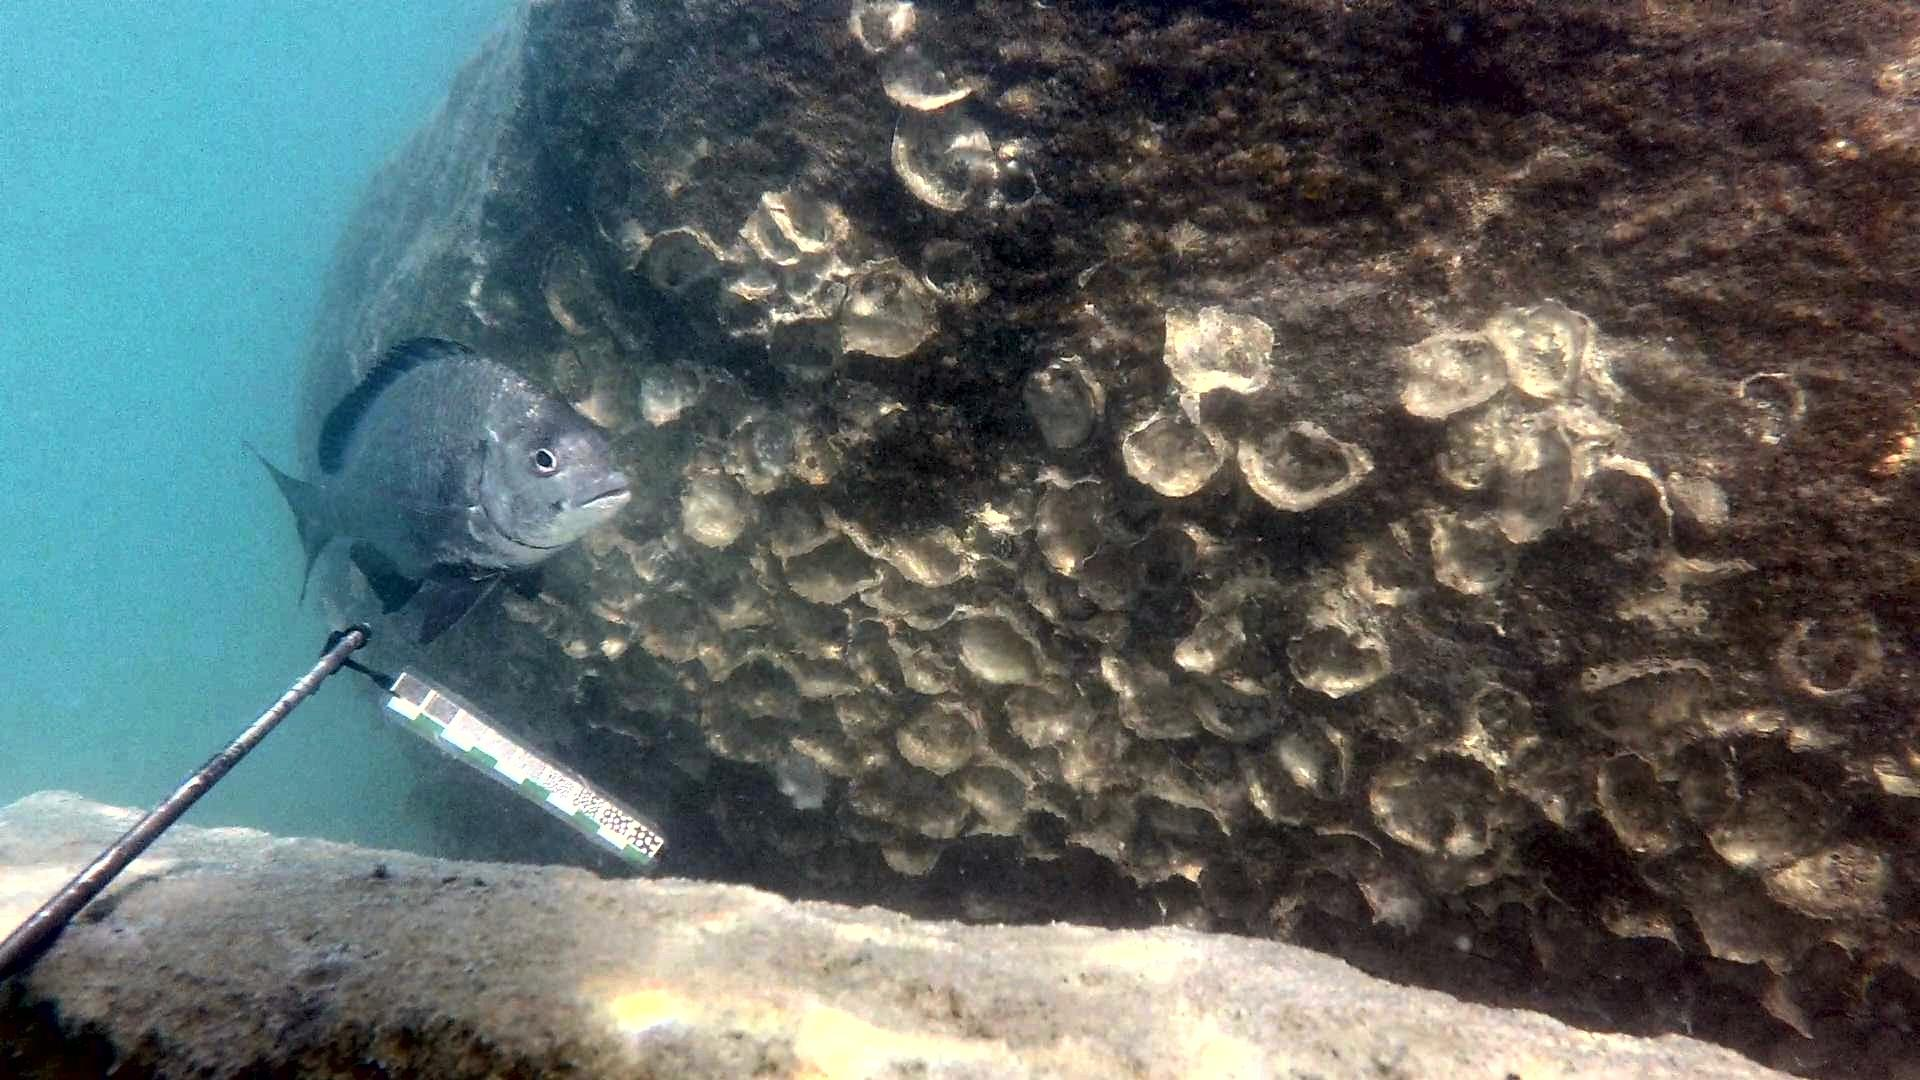acanthopagrus palmaris: (233, 328, 645, 655)
